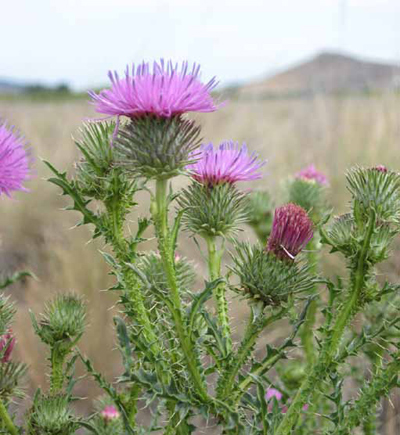thistle: (90, 61, 203, 184), (234, 203, 308, 305), (185, 145, 256, 237), (1, 123, 37, 208)
